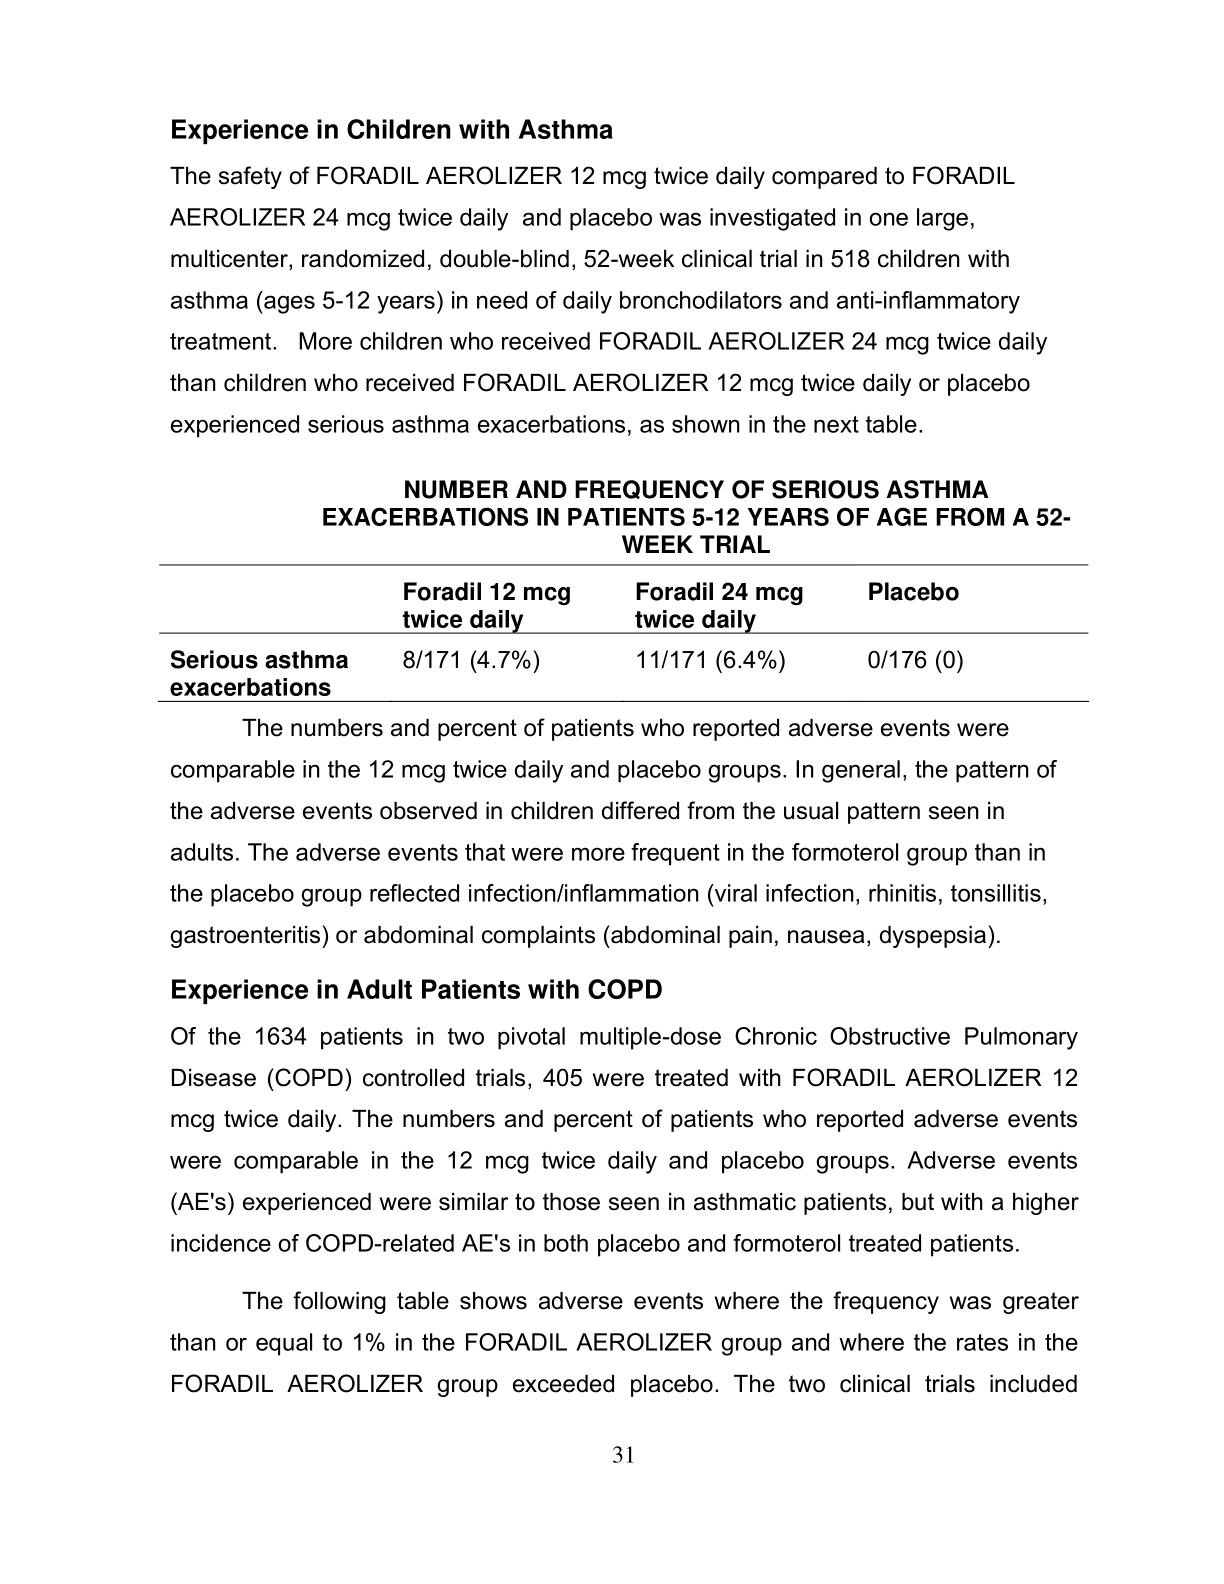partial_lined: (156, 562, 1092, 705)
